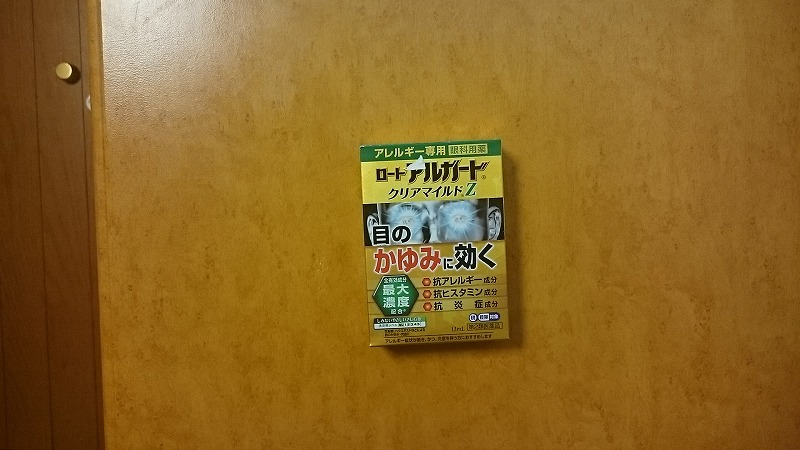C: (354, 135, 522, 350)
